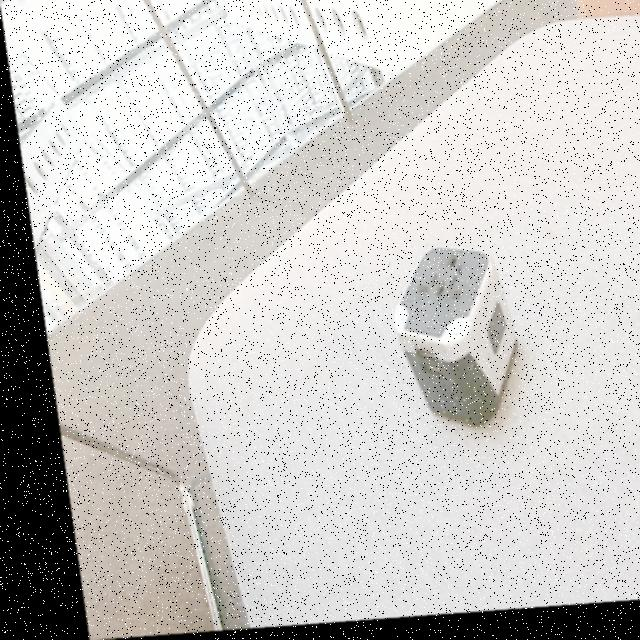adapter: (373, 246, 516, 437)
